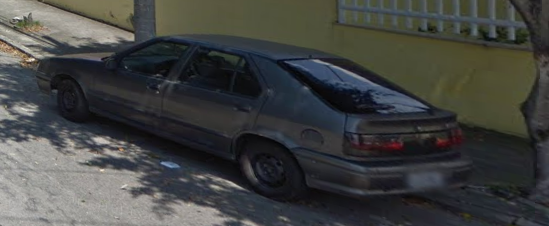car: (30, 29, 473, 203)
